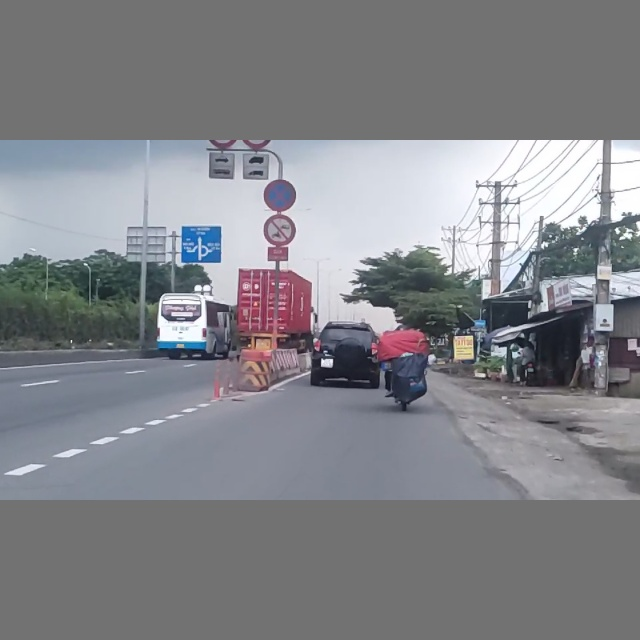P.111: (263, 213, 298, 246)
P.130: (263, 179, 297, 212)
